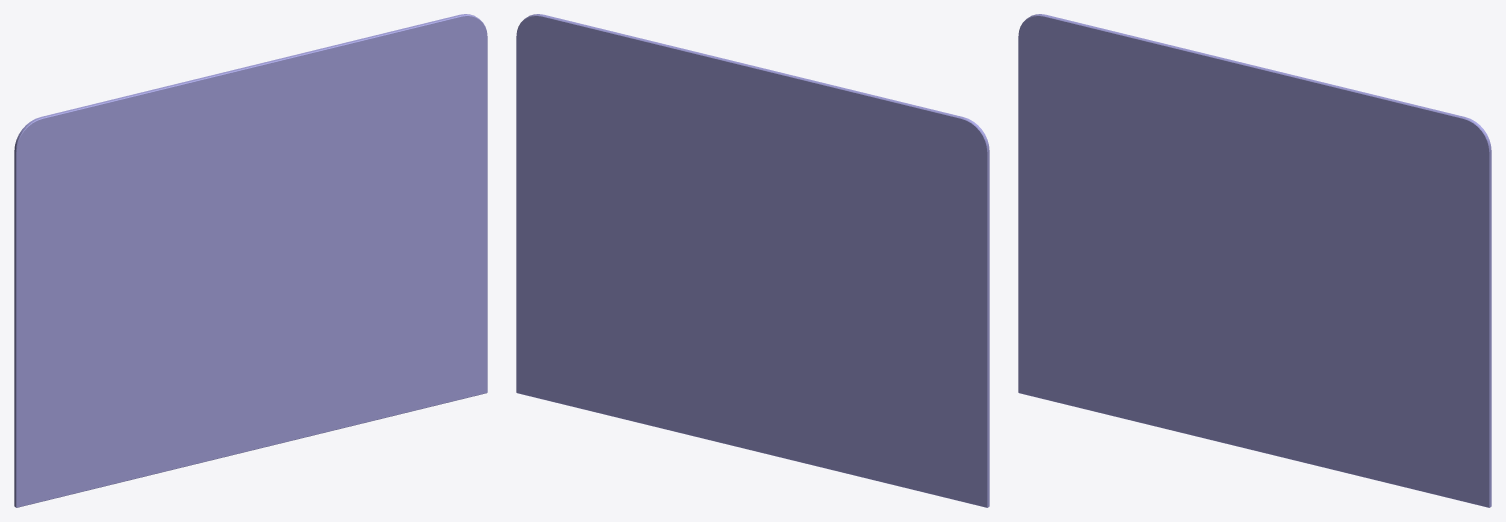
Rendered from glassSeparator.fbx.
3 renders of one model, left to right at view 1: azimuth 30°, elevation 25°; view 2: azimuth 150°, elevation 25°; view 3: azimuth 330°, elevation 25°, orthographic.
Parts seen in each view (by area): view 1: glassSeparator; view 2: glassSeparator; view 3: glassSeparator.
Part boxes in pixels (x1,y1,x2,y2): glassSeparator: (14,14,487,507); glassSeparator: (516,14,989,507); glassSeparator: (1018,14,1491,507).
Bounding box in the file's own units: 150 × 116 × 1.18.
